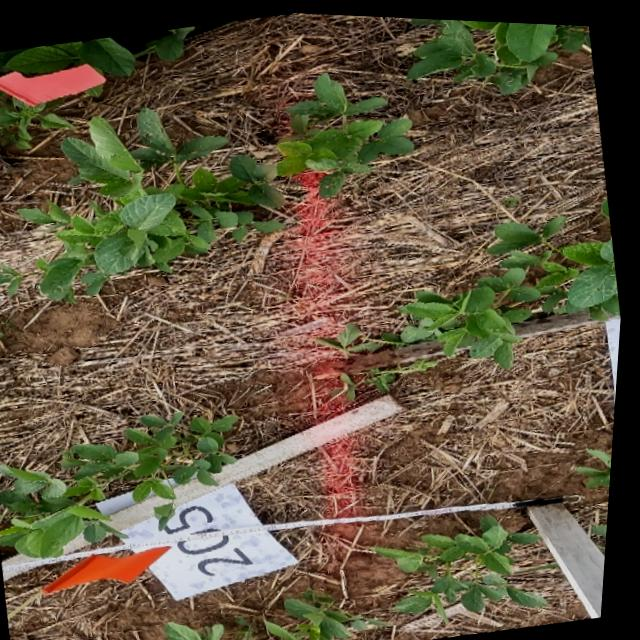soy_plant: (24, 71, 414, 299), (386, 212, 623, 363), (0, 410, 241, 556), (410, 15, 590, 88), (0, 36, 136, 76), (0, 90, 73, 148), (0, 266, 28, 292)
